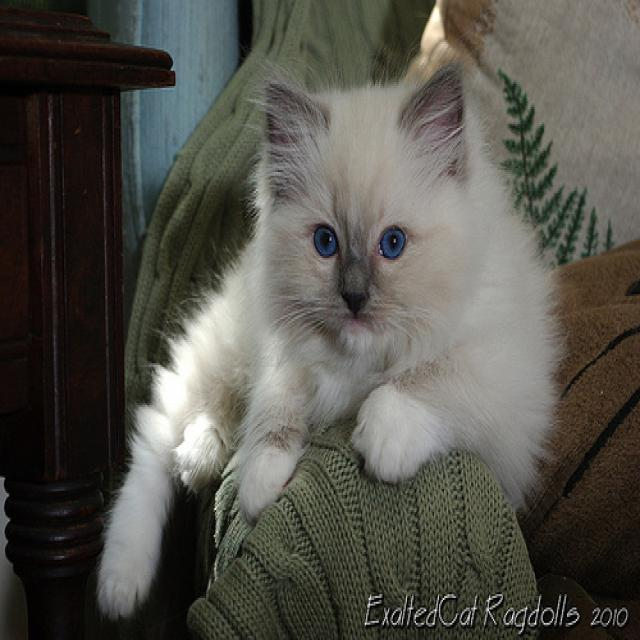Ragdoll: (255, 51, 481, 358)
